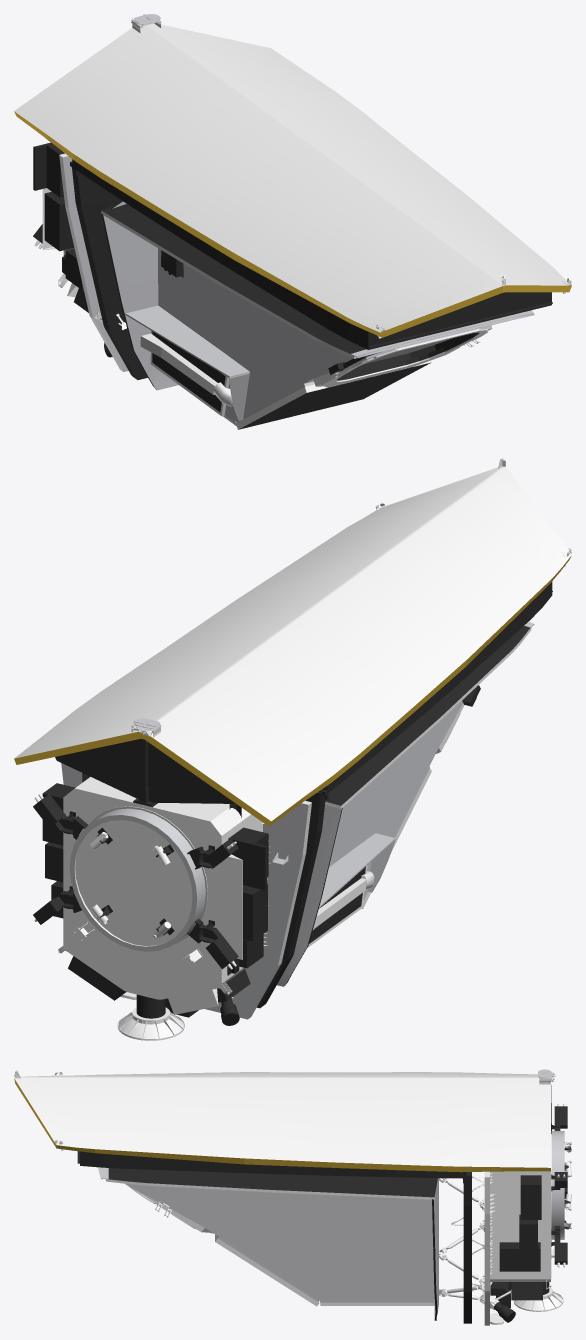
File: sc_neosurveyor.glb
3 views of the same model, one above another, from view 1: azimuth 30°, elevation 25°; view 2: azimuth 150°, elevation 25°; view 3: azimuth 270°, elevation 25° (orthographic). The views are drawn at different scales.
Parts seen in each view (by area): view 1: NoUV, UV; view 2: NoUV, UV; view 3: NoUV, UV, NoUV.002, NoUV.001.
Part boxes in pixels (box(x1,y1,x2,y2)): NoUV: box(14, 14, 571, 429); UV: box(63, 14, 534, 422); NoUV: box(14, 458, 571, 1040); UV: box(61, 621, 534, 1019); NoUV: box(14, 1070, 571, 1325); UV: box(98, 1069, 564, 1318); NoUV.002: box(438, 1166, 463, 1297); NoUV.001: box(472, 1175, 484, 1304).
Bounding box in the file's own units: 0.6844 × 0.7885 × 1.71.
6 materials, 1 textured.
